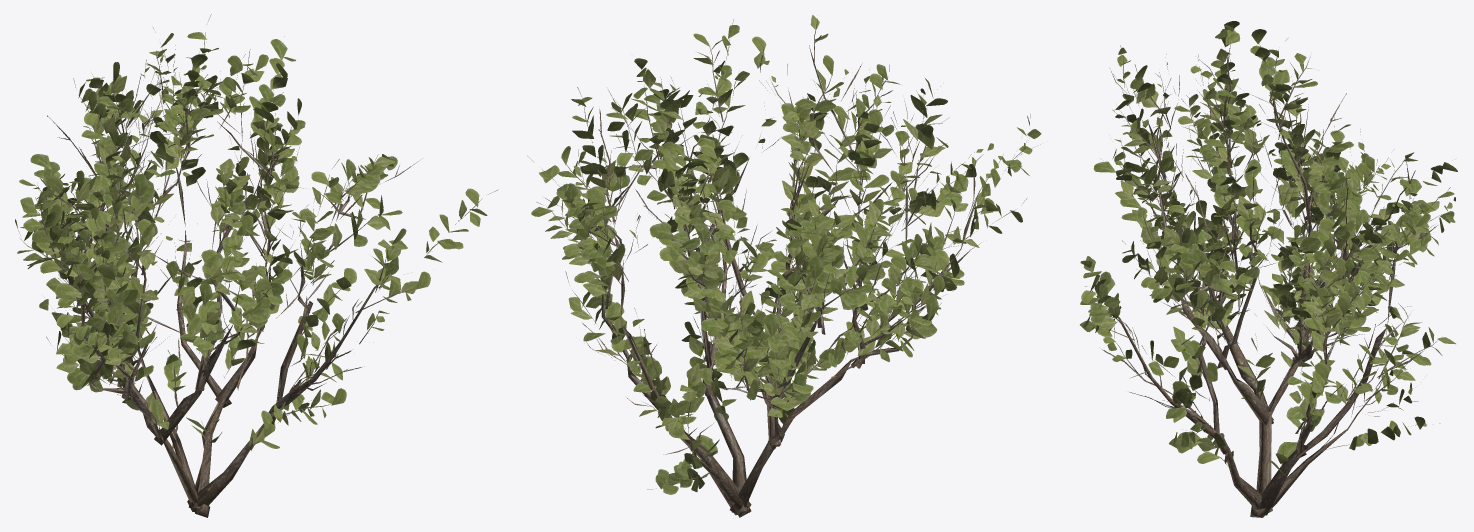
3 views of the same model, side by side, from view 1: azimuth 30°, elevation 25°; view 2: azimuth 150°, elevation 25°; view 3: azimuth 270°, elevation 25° (orthographic). The views are drawn at different scales.
Visible parts, largest first — view 1: searsia_lucida__b_lod0; view 2: searsia_lucida__b_lod0; view 3: searsia_lucida__b_lod0.
Boxes of the visible parts, box(x1,y1,x2,y2) form: searsia_lucida__b_lod0: box(15, 14, 498, 517); searsia_lucida__b_lod0: box(527, 15, 1041, 517); searsia_lucida__b_lod0: box(1080, 21, 1457, 517).
Size of the model in its own units: 1.52 by 1.68 by 1.23.
Materials: 2 (2 with a texture image).
